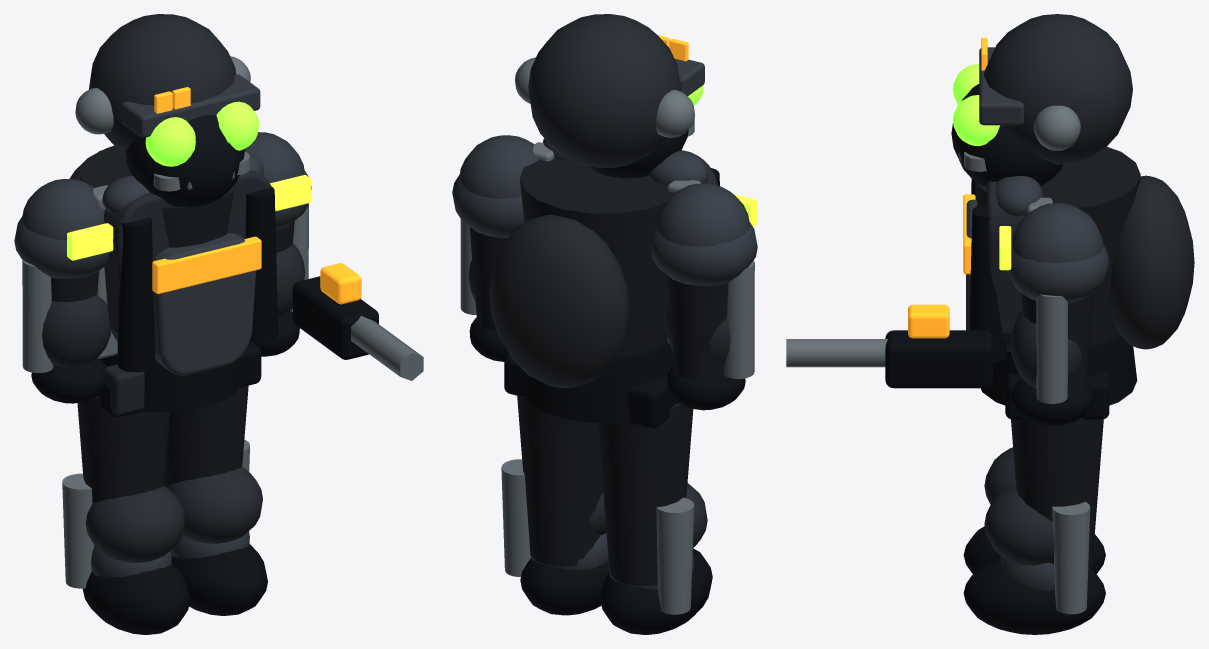
The model's file is assault_l02.glb.
3 views of the same model, side by side, from view 1: azimuth 30°, elevation 25°; view 2: azimuth 150°, elevation 25°; view 3: azimuth 270°, elevation 25° (orthographic). The views are drawn at different scales.
Visible parts, largest first — view 1: trouser (×2), shaped_knee_guard (×2), rounded_helmet, rounded_boot (×2), front_plate, vest_tether (×2), enclosed_mask, shoulder_joint (×2), curved_forearm_guard (×2), contoured_vest, body, carbine_body (+19 smaller); view 2: trouser (×2), shaped_field_pack, rounded_helmet, body, shoulder_joint (×2), rounded_boot (×2), sleeve (×2), shin_frame (×2), shoulder_plate (×2), waist_flex, forearm_seam (×2), glove (×2) (+8 smaller); view 3: rounded_helmet, shaped_field_pack, trouser, body, rounded_boot (×2), carbine_body, shaped_knee_guard (×2), shoulder_joint, shin_frame, shoulder_plate, enclosed_mask, forearm_seam (+16 smaller).
Part boxes in pixels (<box>): trouser (×2): <box>77,385,248,546</box>; shaped_knee_guard (×2): <box>85,467,262,562</box>; rounded_helmet: <box>89,14,236,153</box>; rounded_boot (×2): <box>82,544,267,634</box>; front_plate: <box>153,233,256,375</box>; vest_tether (×2): <box>117,186,278,372</box>; enclosed_mask: <box>125,114,244,207</box>; shoulder_joint (×2): <box>21,132,304,240</box>; curved_forearm_guard (×2): <box>42,243,305,367</box>; contoured_vest: <box>104,170,270,363</box>; body: <box>80,146,234,247</box>; carbine_body: <box>292,276,378,359</box>; trouser (×2): <box>517,395,693,585</box>; shaped_field_pack: <box>489,214,629,388</box>; rounded_helmet: <box>528,14,681,167</box>; body: <box>519,158,673,356</box>; shoulder_joint (×2): <box>459,135,750,247</box>; rounded_boot (×2): <box>520,548,712,634</box>; sleeve (×2): <box>469,227,728,380</box>; shin_frame (×2): <box>501,459,694,614</box>; shoulder_plate (×2): <box>452,174,757,285</box>; waist_flex: <box>526,340,673,422</box>; forearm_seam (×2): <box>460,219,754,378</box>; glove (×2): <box>469,317,745,410</box>; rounded_helmet: <box>983,14,1132,164</box>; shaped_field_pack: <box>1110,175,1194,349</box>; trouser: <box>1011,417,1103,574</box>; body: <box>974,147,1140,345</box>; rounded_boot (×2): <box>963,526,1105,634</box>; carbine_body: <box>885,330,992,388</box>; shaped_knee_guard (×2): <box>984,447,1054,565</box>; shoulder_joint: <box>1011,203,1103,262</box>; shin_frame: <box>1052,502,1090,614</box>; shoulder_plate: <box>1007,244,1109,303</box>; enclosed_mask: <box>951,84,1062,187</box>; forearm_seam: <box>1036,294,1067,403</box>.
Size of the model in its own units: 0.95 by 1.87 by 1.18.
